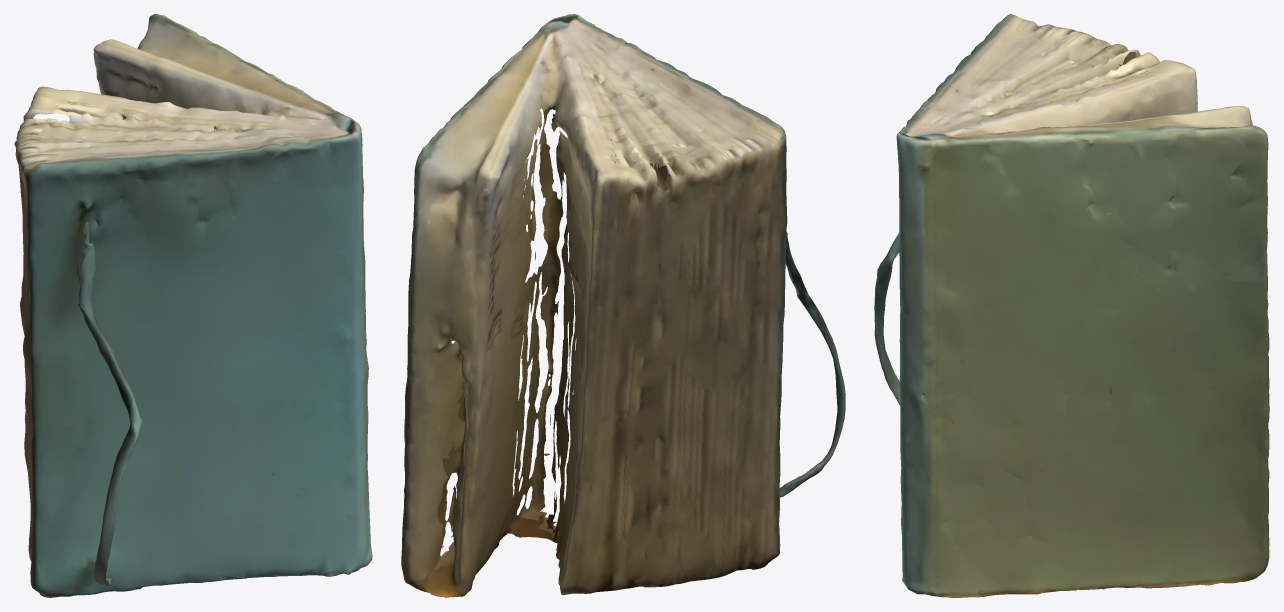
File: kiki_s-book.glb
3 views of the same model, side by side, from view 1: azimuth 30°, elevation 25°; view 2: azimuth 150°, elevation 25°; view 3: azimuth 270°, elevation 25° (orthographic).
Size of the model in its own units: 1.12 by 1.6 by 1.25.
1 material, 1 textured.
